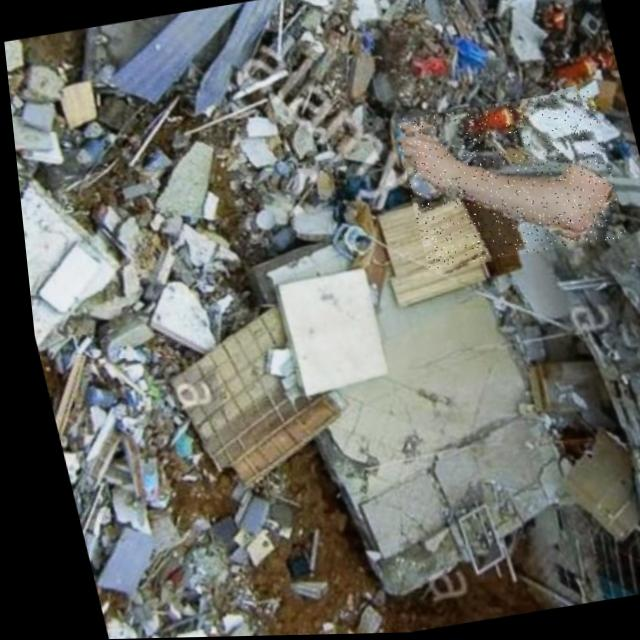Person in Rubble: (386, 91, 623, 273)
